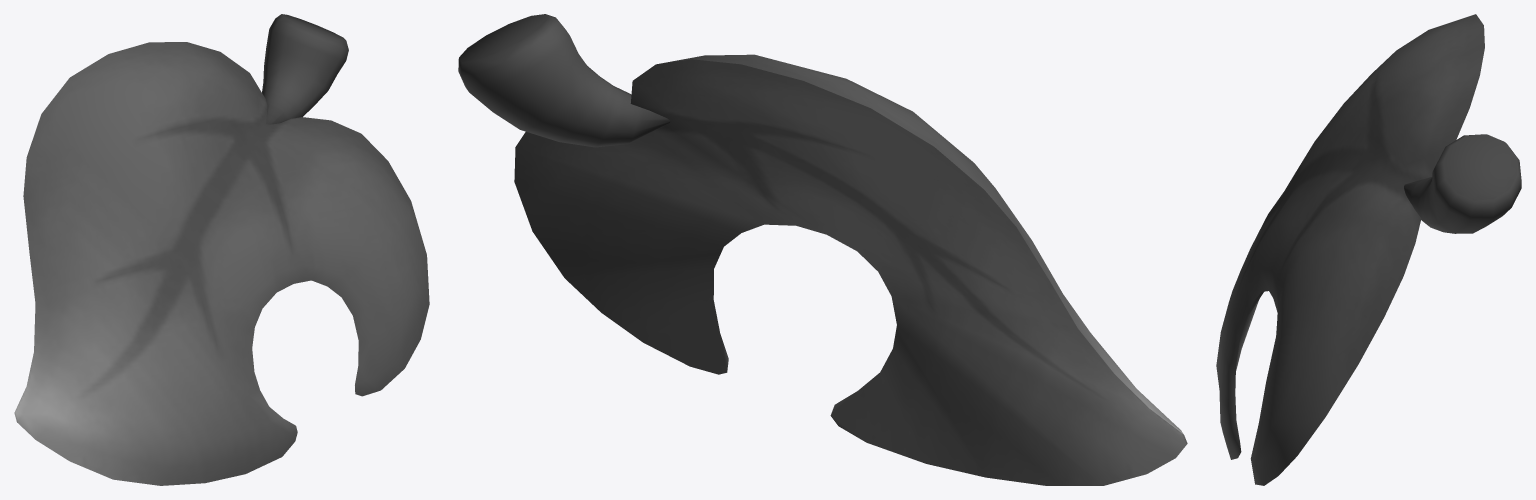
The model's file is UnitIconLeaf.glb.
3 renders of one model, left to right at view 1: azimuth 30°, elevation 25°; view 2: azimuth 150°, elevation 25°; view 3: azimuth 270°, elevation 25°, orthographic. The views are drawn at different scales.
Parts seen in each view (by area): view 1: Body__mBody; view 2: Body__mBody; view 3: Body__mBody.
Part boxes in pixels (x1,y1,x2,y2): Body__mBody: [14, 14, 429, 485]; Body__mBody: [458, 14, 1187, 485]; Body__mBody: [1216, 14, 1521, 485].
Bounding box in the file's own units: 4.48 × 3.49 × 2.38.
1 material, 1 textured.
